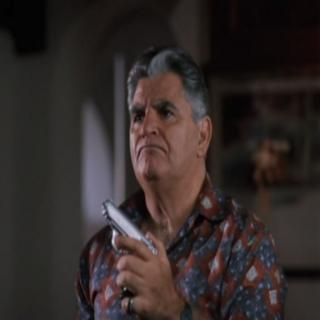gun: (98, 196, 161, 316)
